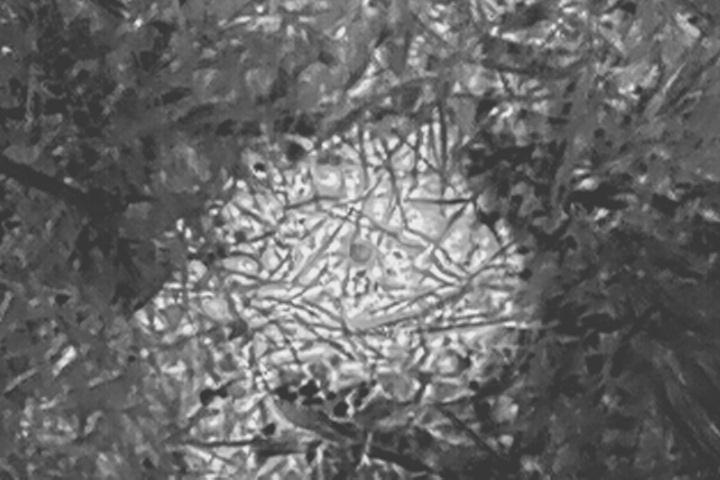landmine: (180, 132, 533, 414)
